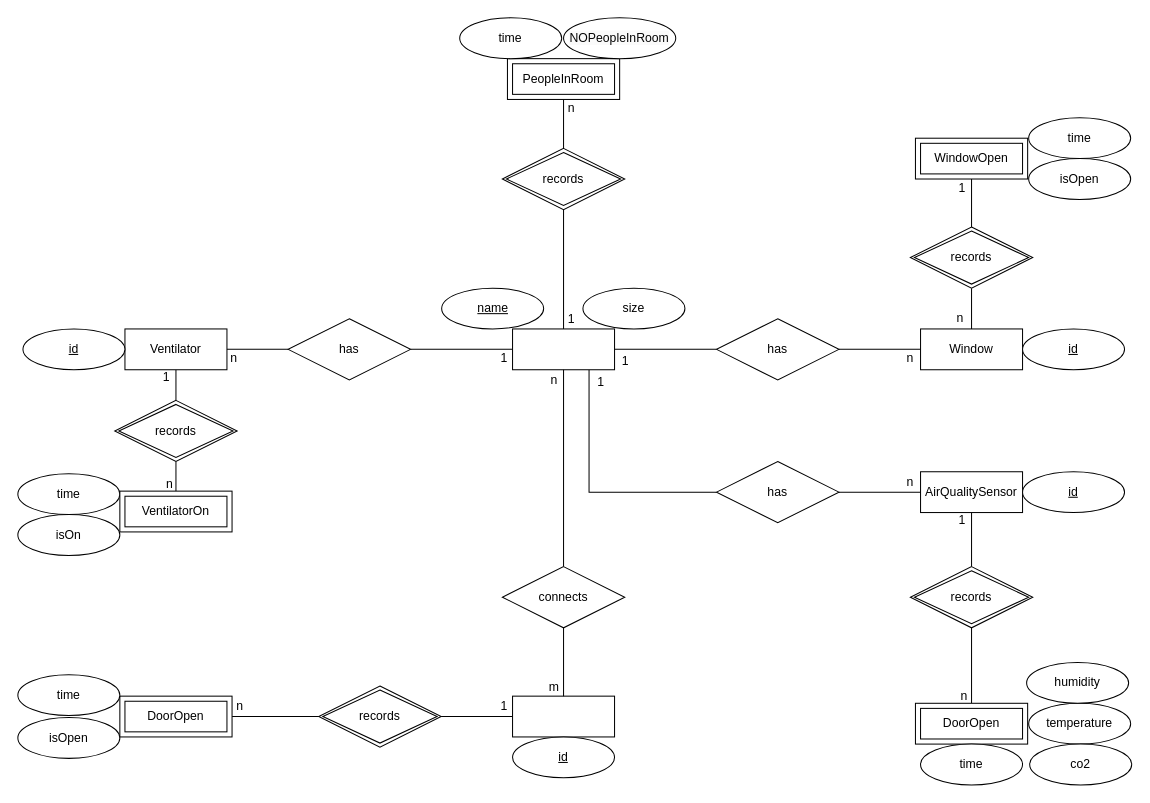
Image size: 1150x803. Some labels were removed from this diagram. The centre of each missing label's shape, as x and y in pixels:
"Door" belongs at point 563,716.
"Room" belongs at point 563,349.
